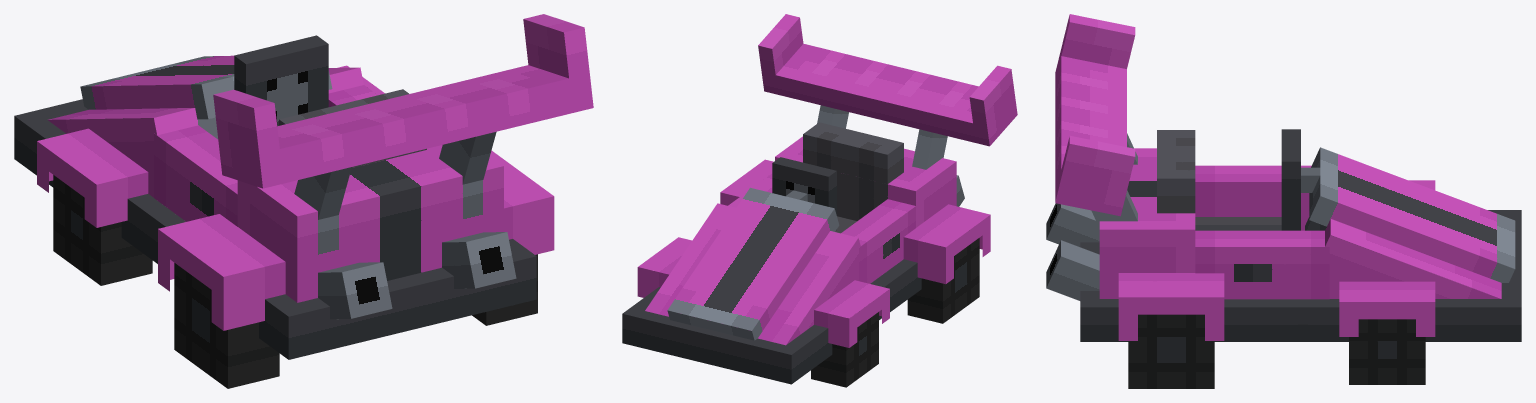
The model's file is Magenta Kart.glb.
3 renders of one model, left to right at view 1: azimuth 30°, elevation 25°; view 2: azimuth 150°, elevation 25°; view 3: azimuth 270°, elevation 25°, orthographic. The views are drawn at different scales.
Visible parts, largest first — view 1: BodyMesh, WheelMesh (×3), SteeringWheelMesh; view 2: BodyMesh, WheelMesh (×2), SteeringWheelMesh; view 3: BodyMesh, WheelMesh (×2), SteeringWheelMesh.
Part boxes in pixels (x1,y1,x2,y2): BodyMesh: [14, 14, 593, 359]; WheelMesh (×3): [53, 175, 537, 388]; SteeringWheelMesh: [234, 35, 328, 126]; BodyMesh: [622, 14, 1017, 384]; WheelMesh (×2): [811, 238, 979, 387]; SteeringWheelMesh: [772, 157, 836, 230]; BodyMesh: [1046, 14, 1521, 341]; WheelMesh (×2): [1128, 314, 1425, 388]; SteeringWheelMesh: [1281, 129, 1320, 230].
Bounding box in the file's own units: 2 × 1.79 × 3.1.
Materials: 1 (1 with a texture image).
